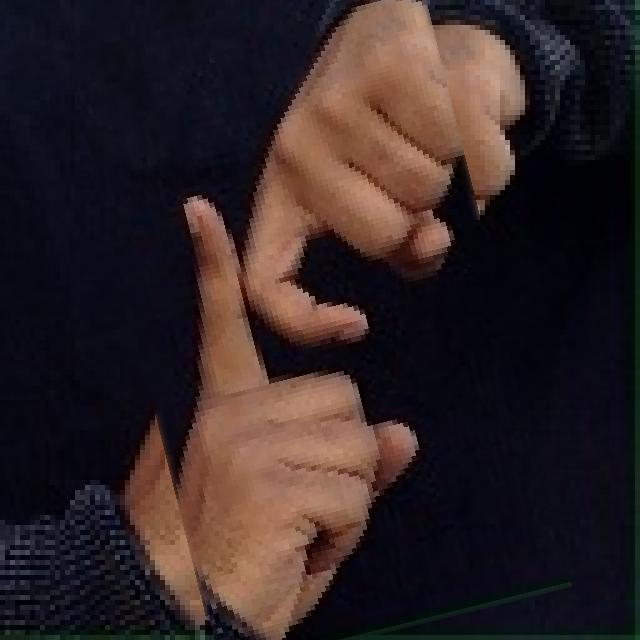K: (101, 0, 536, 640)
